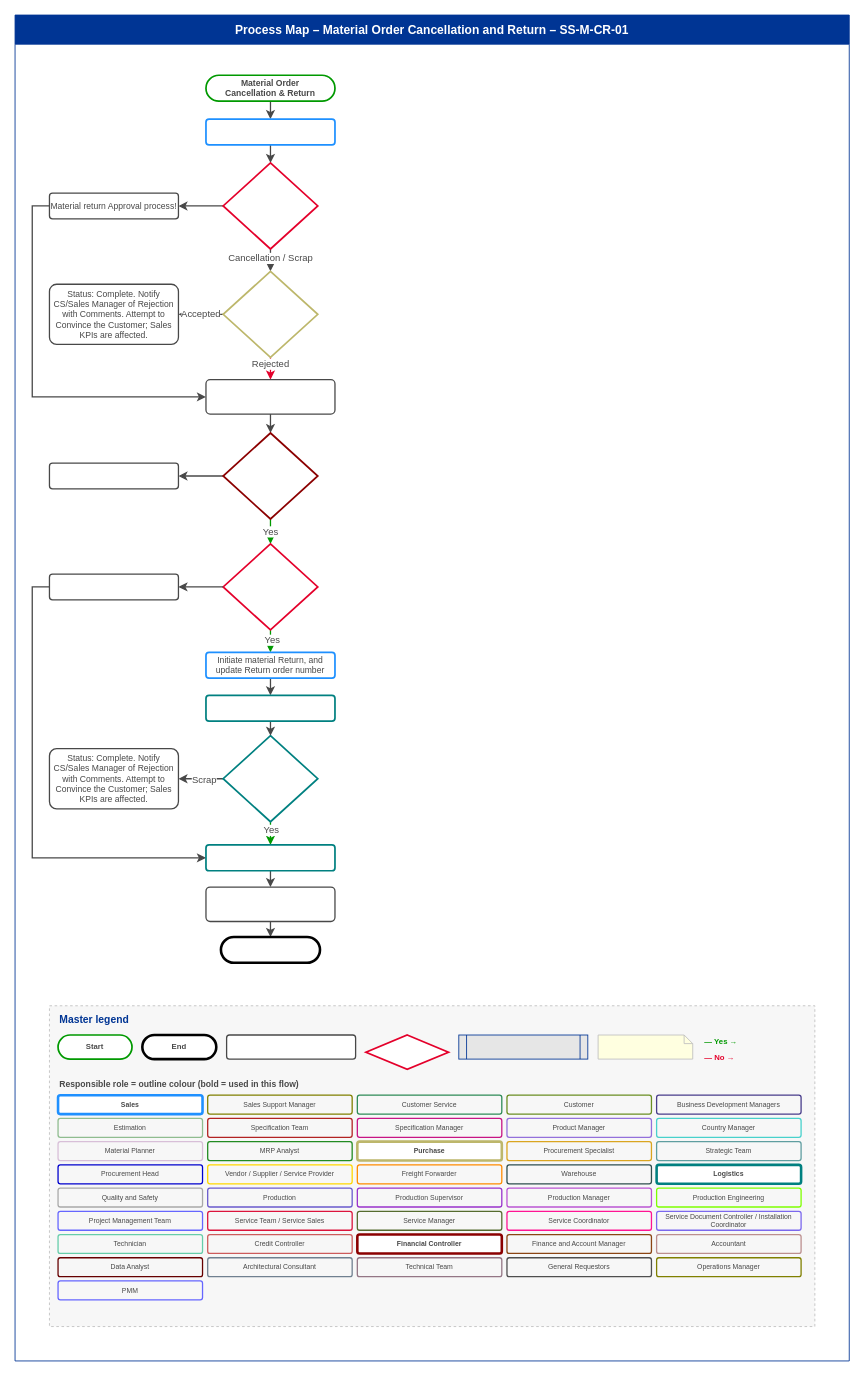
This 864x1376 diagram has some shape labels left out. The shapes that lost their labels are listed below. From the top down, each one's centre as x and y in pixels, then its label:
(270,131): Delink/Return request Submitted
(270,205): Material Cancellation/Scrap ?
(270,314): PO Cancellation Rejected?
(270,396): Identify if Fast moving, slow moving, Scrap & suggest Unique code.
(113,475): Status Complete, Notify CS on Rejection with comments!
(270,475): Financial Controller Approved?
(113,586): Request Logistic to Delink or Scrap
(270,586): Material Return ?
(270,708): Return Material Inbound & QA/QC
(270,778): Material QA/QC Passed?
(270,857): Delink or Stock Material in Unique Material
(270,904): Status Complete, Notify CS/sales on completion with comments!
(270,949): Complete
(291,1046): Activity (outline = role)
(407,1052): Decision
(523,1046): Linked process (Ref ID)
(645,1046): Note / checklist
